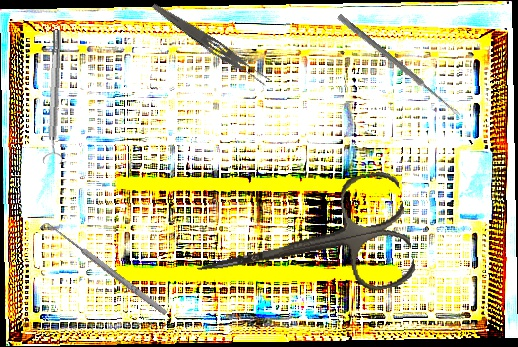Dressing Forceps: (148, 0, 272, 89)
Fixation Ring: (40, 29, 70, 165)
Hook Surgical: (38, 217, 170, 322)
Iris Scissors: (185, 168, 419, 324)
Surgical Spoon: (336, 13, 462, 118)
